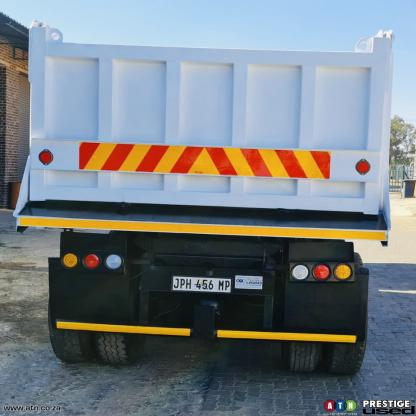dump_truck: (9, 15, 406, 382)
